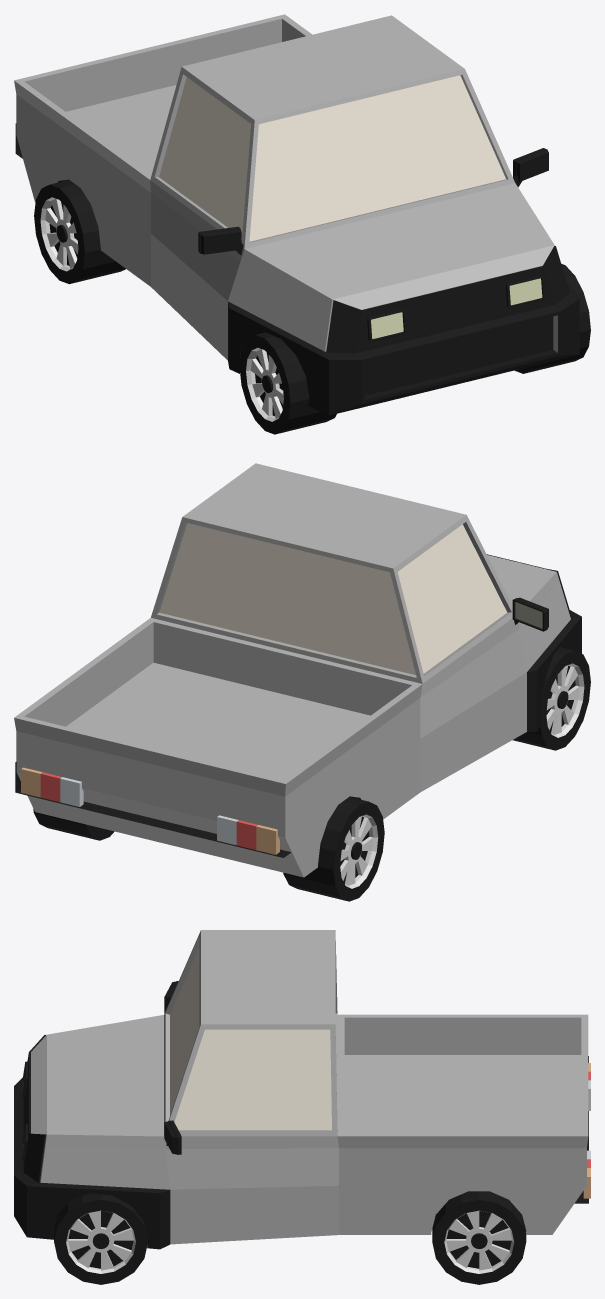
Rendered from tamrawekekna white.fbx.
3 views of the same model, one above another, from view 1: azimuth 30°, elevation 25°; view 2: azimuth 150°, elevation 25°; view 3: azimuth 270°, elevation 25° (orthographic). The views are drawn at different scales.
Parts seen in each view (by area): view 1: tamaraw.001; view 2: tamaraw.001; view 3: tamaraw.001.
Part boxes in pixels (left/top/right/bottom): tamaraw.001: left=14, top=14, right=590, bottom=434; tamaraw.001: left=14, top=463, right=590, bottom=901; tamaraw.001: left=14, top=930, right=590, bottom=1284.
Bounding box in the file's own units: 450 × 322 × 702.
